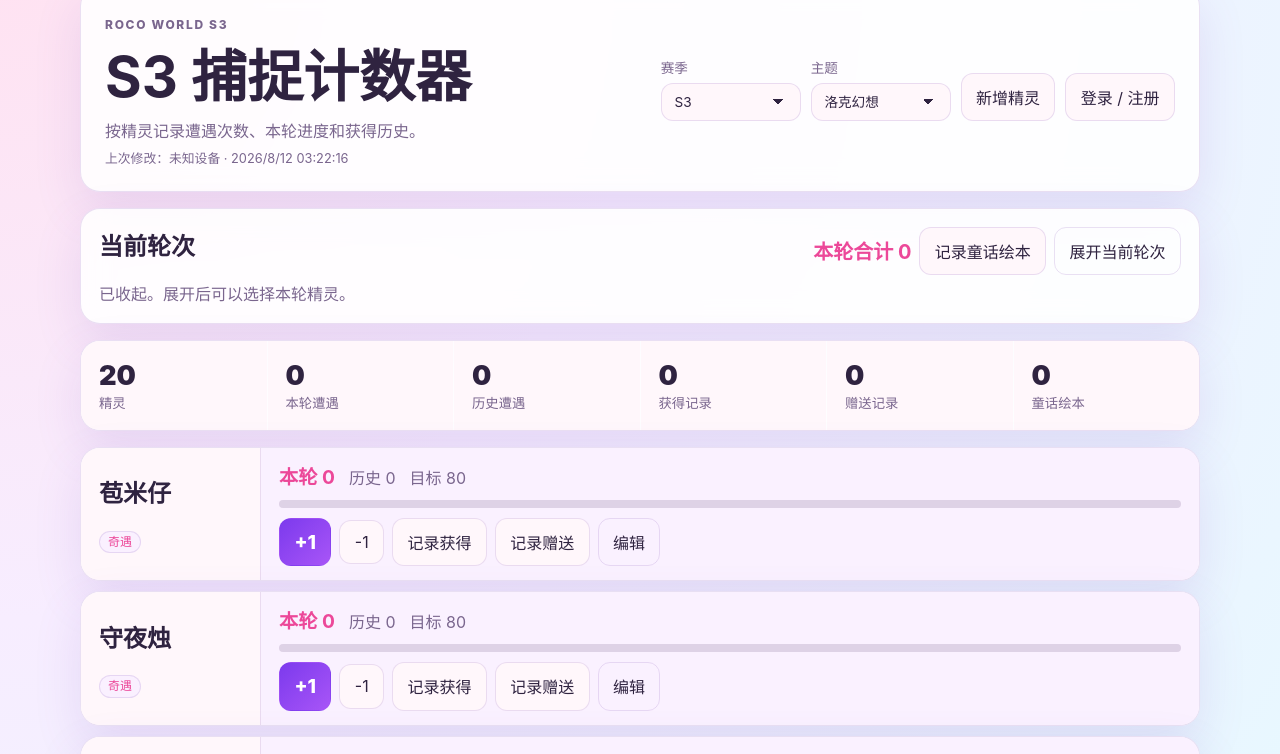
Test: App › updates editor fields when switching directly between creatures
Click the 1st button "编辑" at (629, 542), box [598,518,660,566]
(page scrolled)
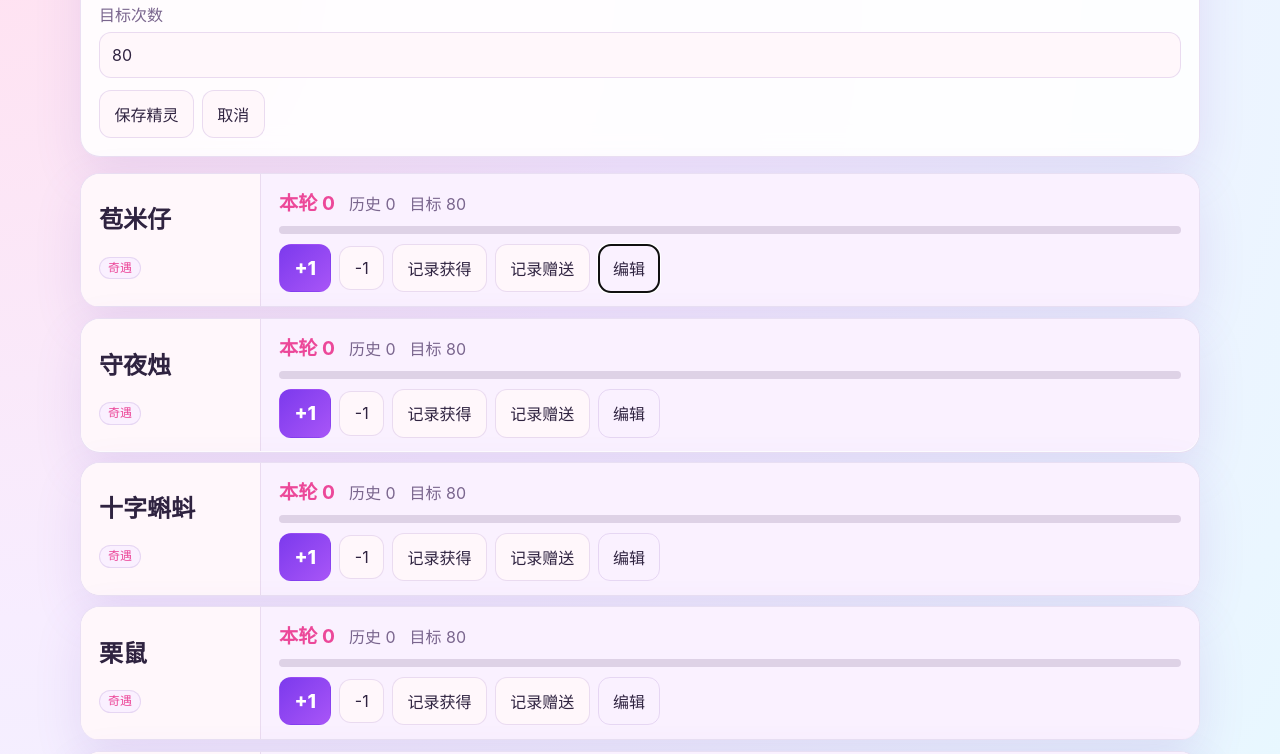
Click the 2nd button "编辑" at (629, 413), box [598,388,660,437]
(page scrolled)
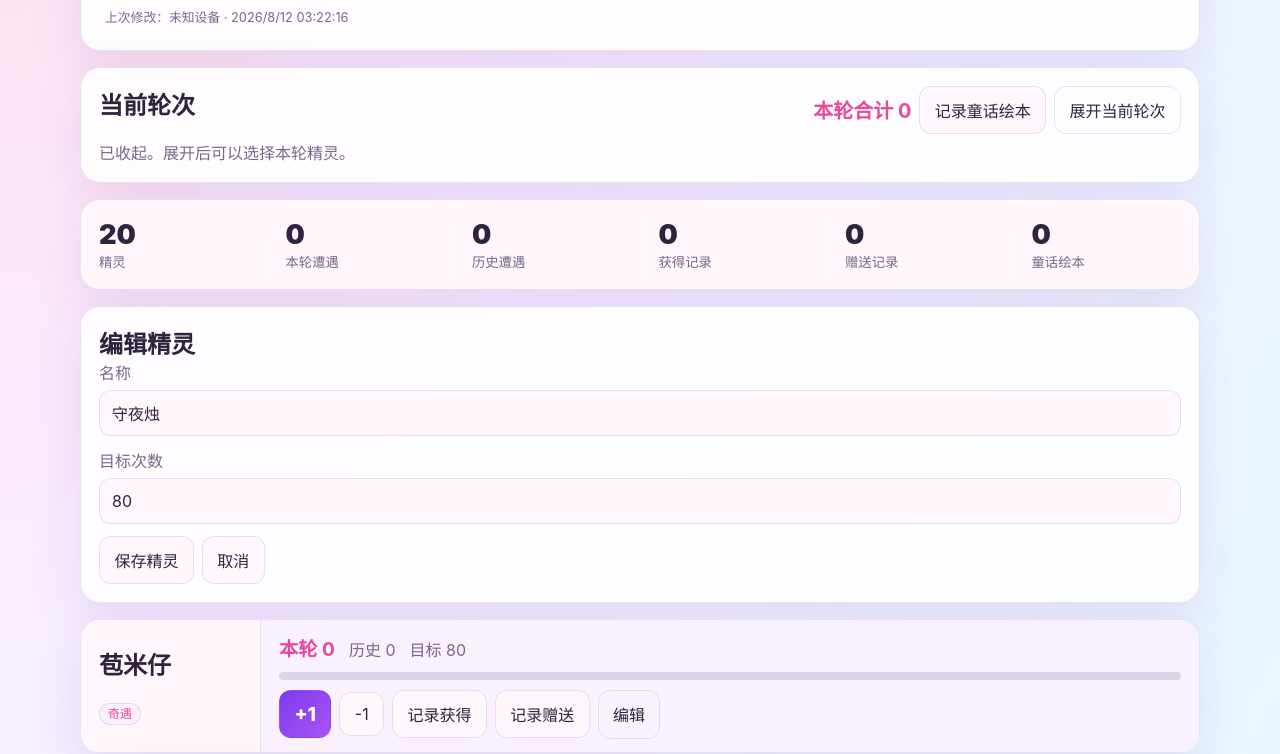
Check: the field labelled "名称" holds "守夜烛", box [99,390,1181,436]
